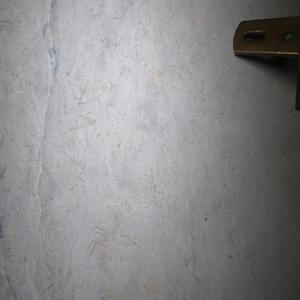MetalPart: (232, 14, 300, 111)
